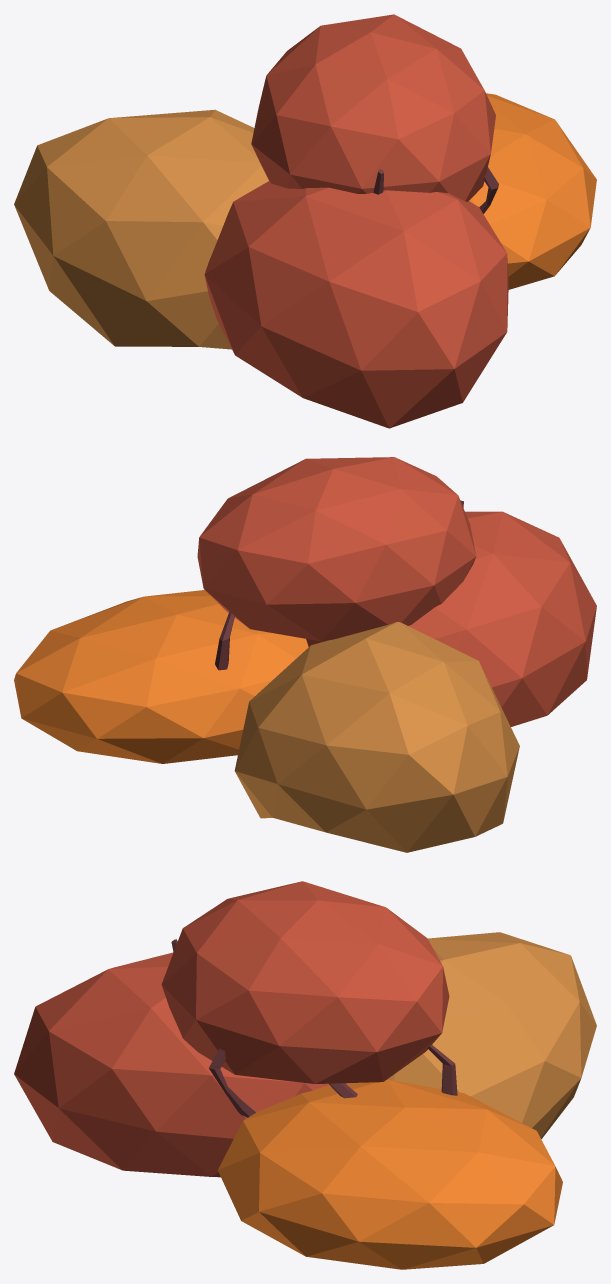
File: klen_sk2.fbx
3 renders of one model, top to bottom at view 1: azimuth 30°, elevation 25°; view 2: azimuth 150°, elevation 25°; view 3: azimuth 270°, elevation 25°, orthographic. The views are drawn at different scales.
Visible parts, largest first — view 1: Icosphere.015, Icosphere.014, Icosphere.016, Icosphere.013; view 2: Icosphere.014, Icosphere.016, Icosphere.013, Icosphere.015, Cylinder.004; view 3: Icosphere.013, Icosphere.016, Icosphere.015, Icosphere.014, Cylinder.007, Cylinder.004.
Boxes of the visible parts, bbox=[...] form: Icosphere.015: bbox=[204, 181, 508, 428]; Icosphere.014: bbox=[14, 109, 268, 349]; Icosphere.016: bbox=[251, 14, 495, 201]; Icosphere.013: bbox=[469, 93, 596, 289]; Icosphere.014: bbox=[234, 622, 519, 852]; Icosphere.016: bbox=[197, 457, 476, 641]; Icosphere.013: bbox=[14, 590, 308, 763]; Icosphere.015: bbox=[306, 511, 596, 726]; Cylinder.004: bbox=[215, 611, 234, 670]; Icosphere.013: bbox=[218, 1079, 562, 1269]; Icosphere.016: bbox=[161, 881, 449, 1083]; Icosphere.015: bbox=[14, 952, 349, 1177]; Icosphere.014: bbox=[387, 932, 596, 1138]; Cylinder.007: bbox=[209, 1048, 255, 1117]; Cylinder.004: bbox=[427, 1045, 457, 1095].
Size of the model in its own units: 112 by 73.53 by 113.
